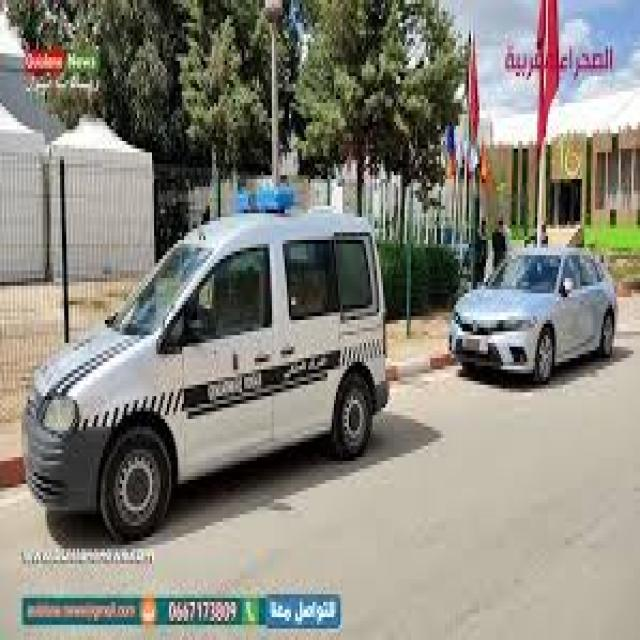gendarme car: (19, 184, 396, 545)
